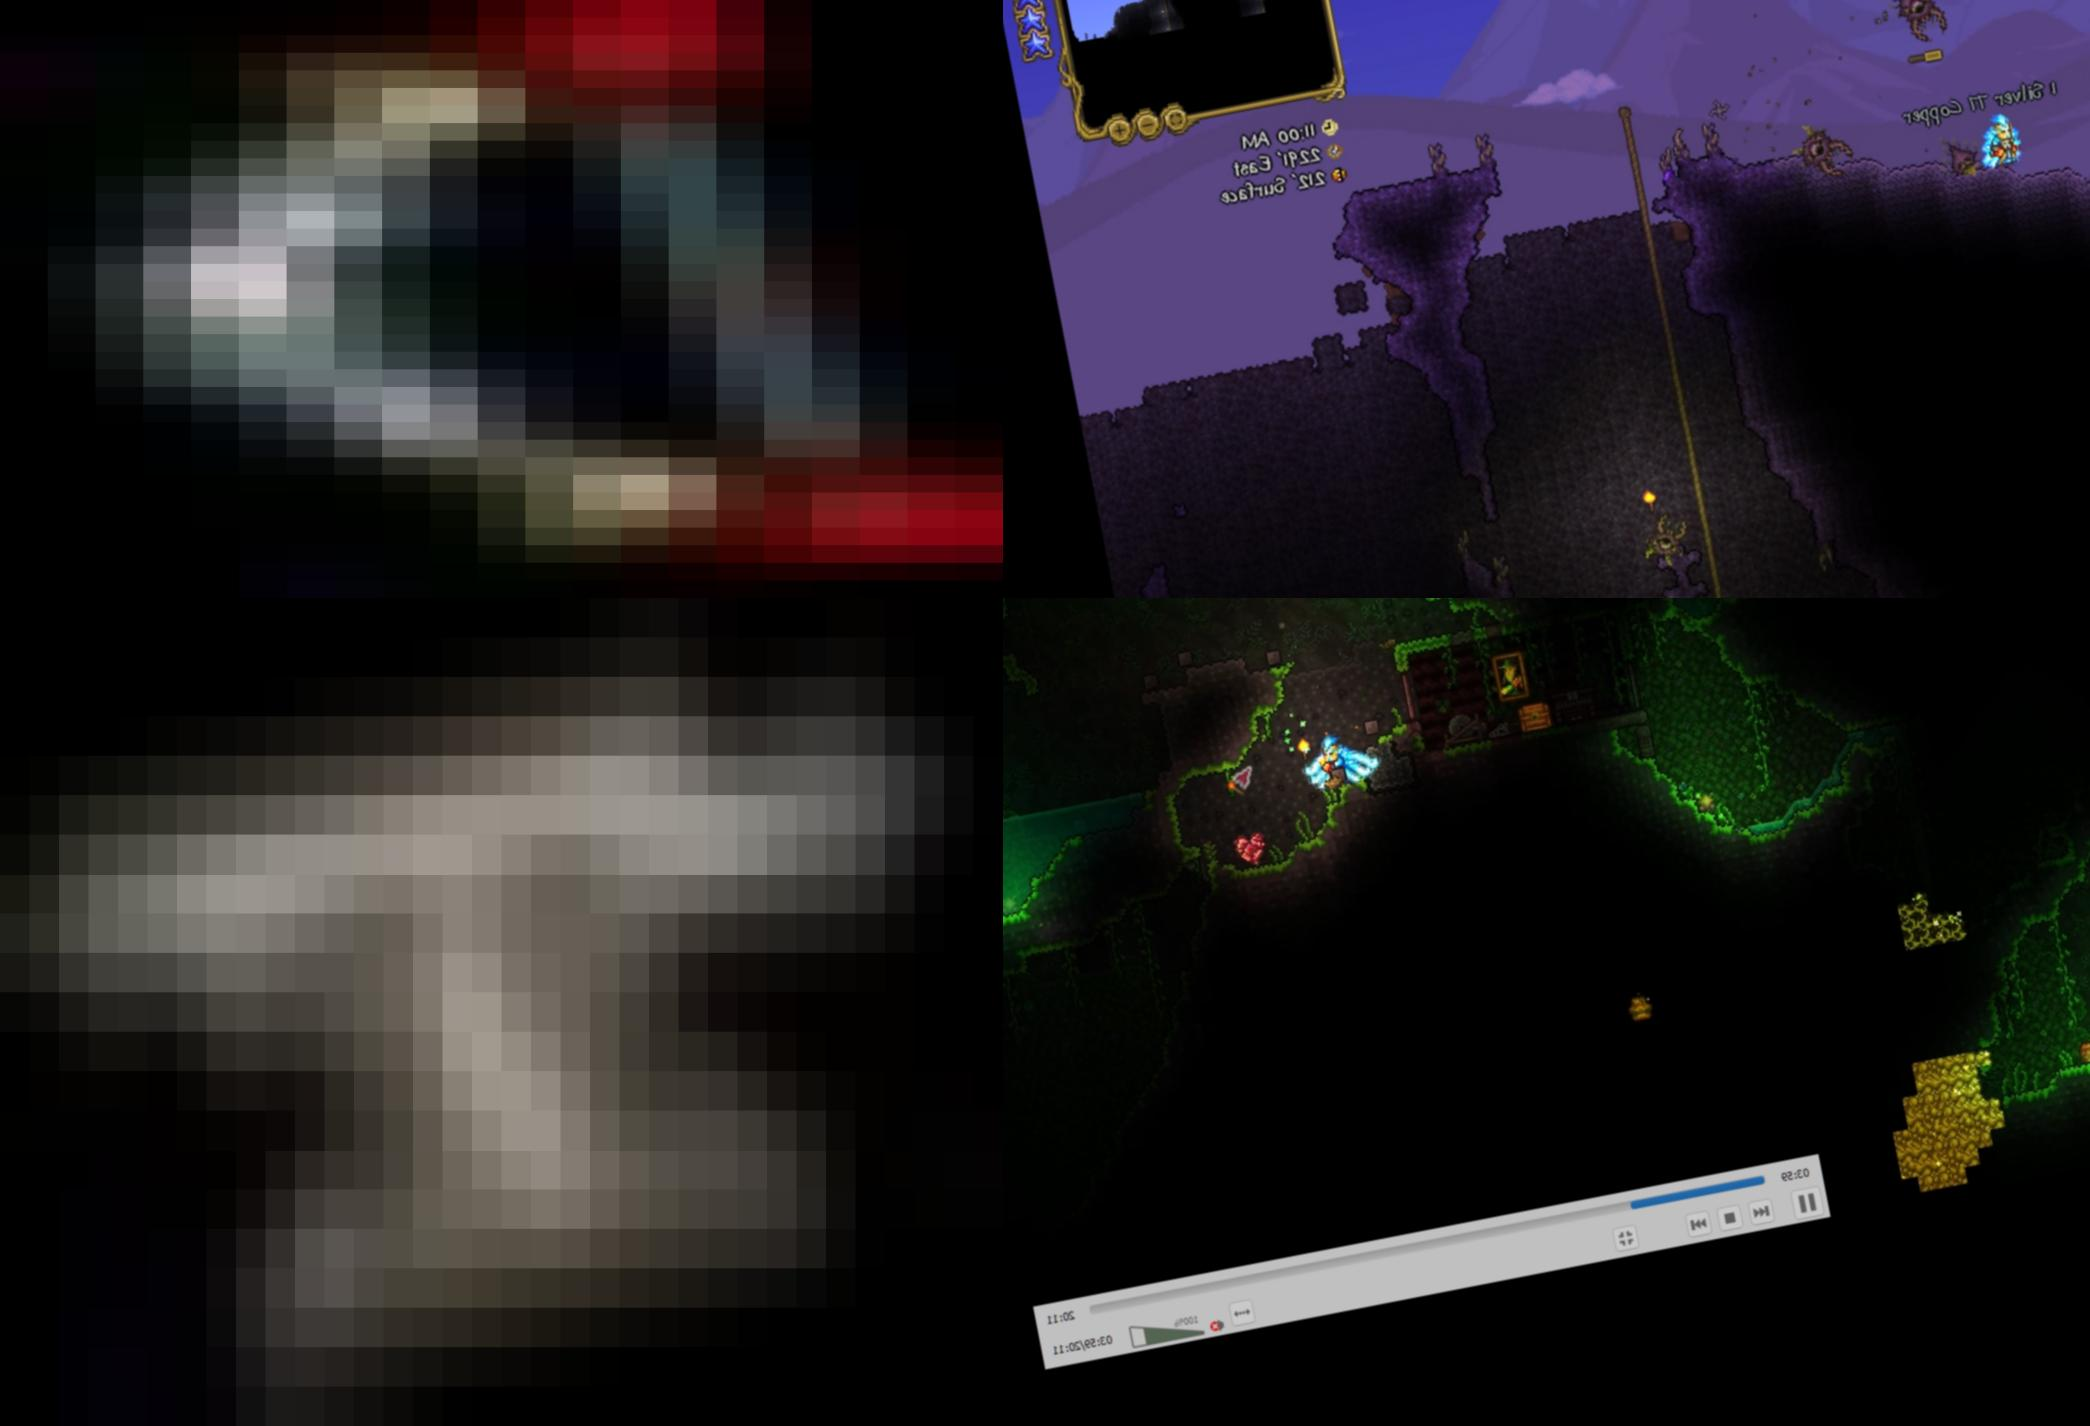anvil: (0, 599, 1004, 1426)
bow: (0, 0, 1004, 599)
crimera: (1879, 0, 1952, 51)
